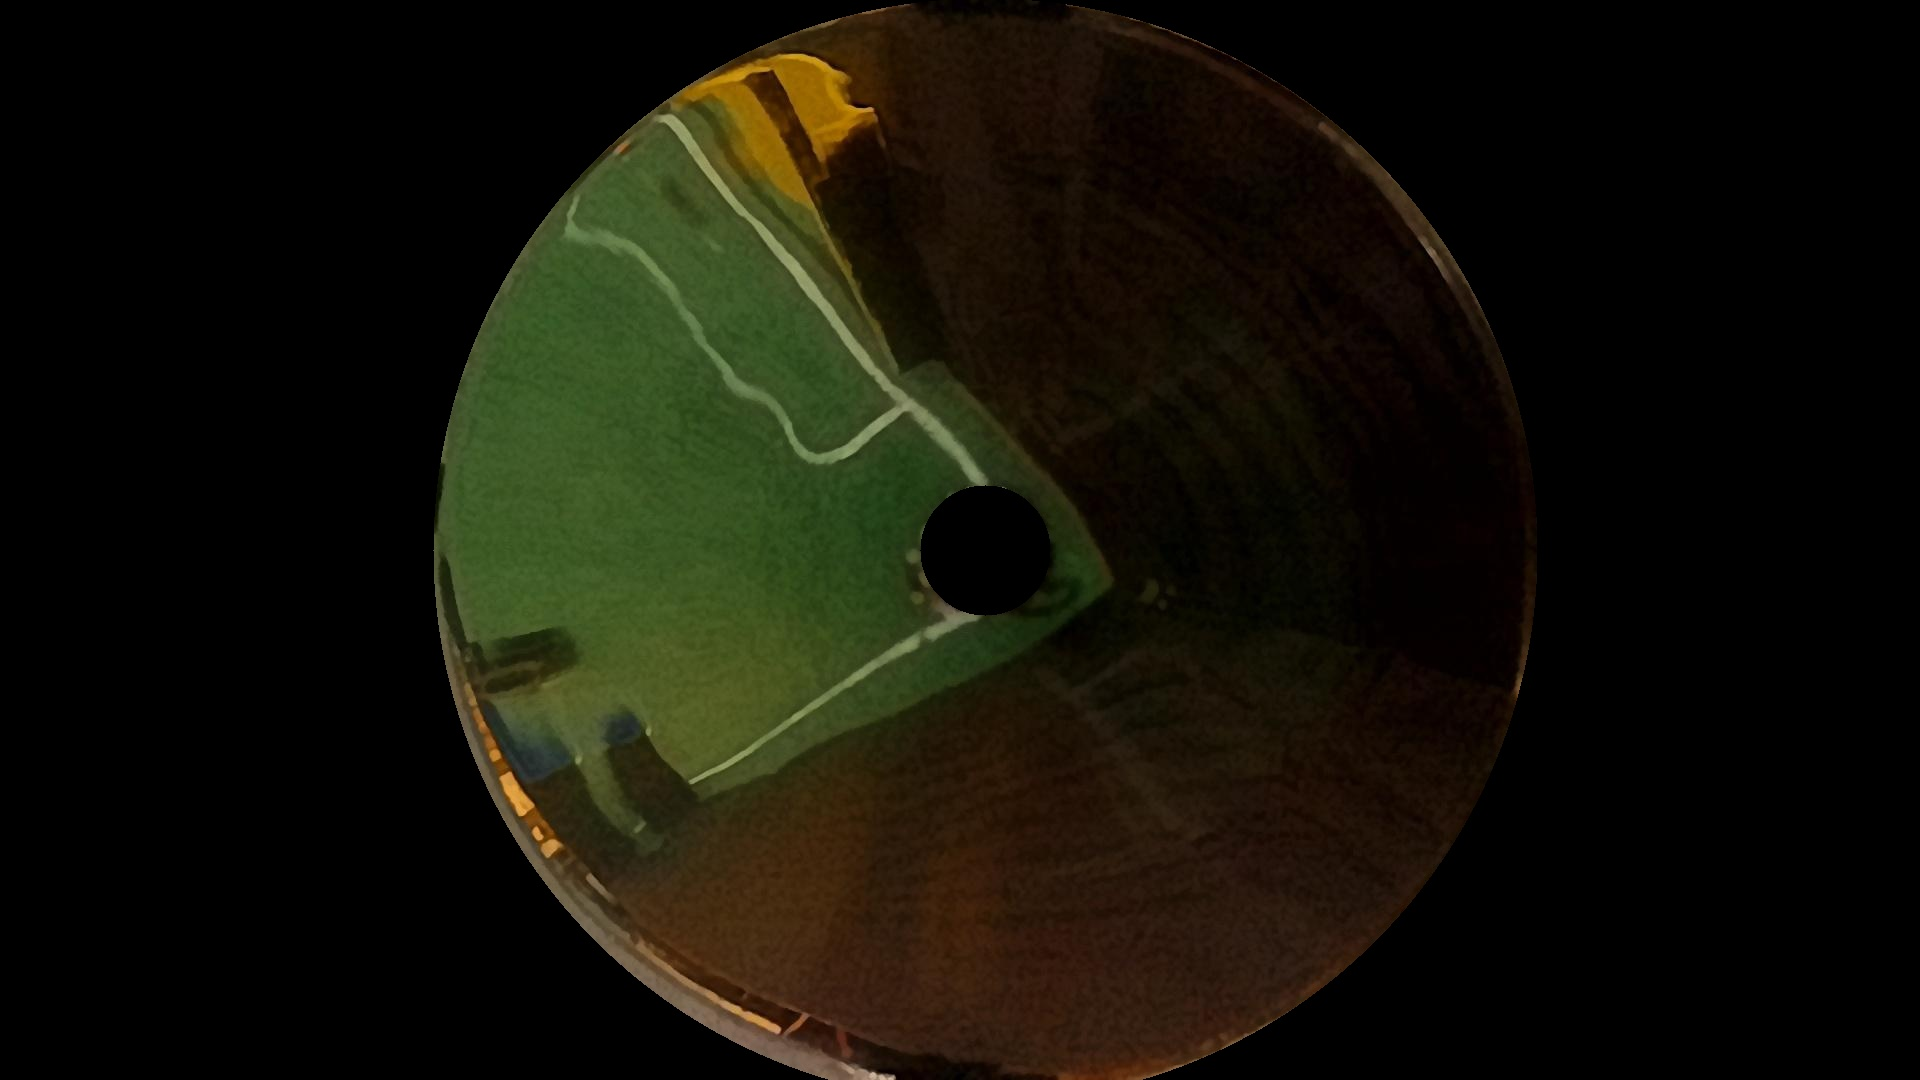blue-goal: (464, 646, 630, 770)
robots: (452, 622, 582, 702)
yellow-goal: (665, 70, 948, 376)
